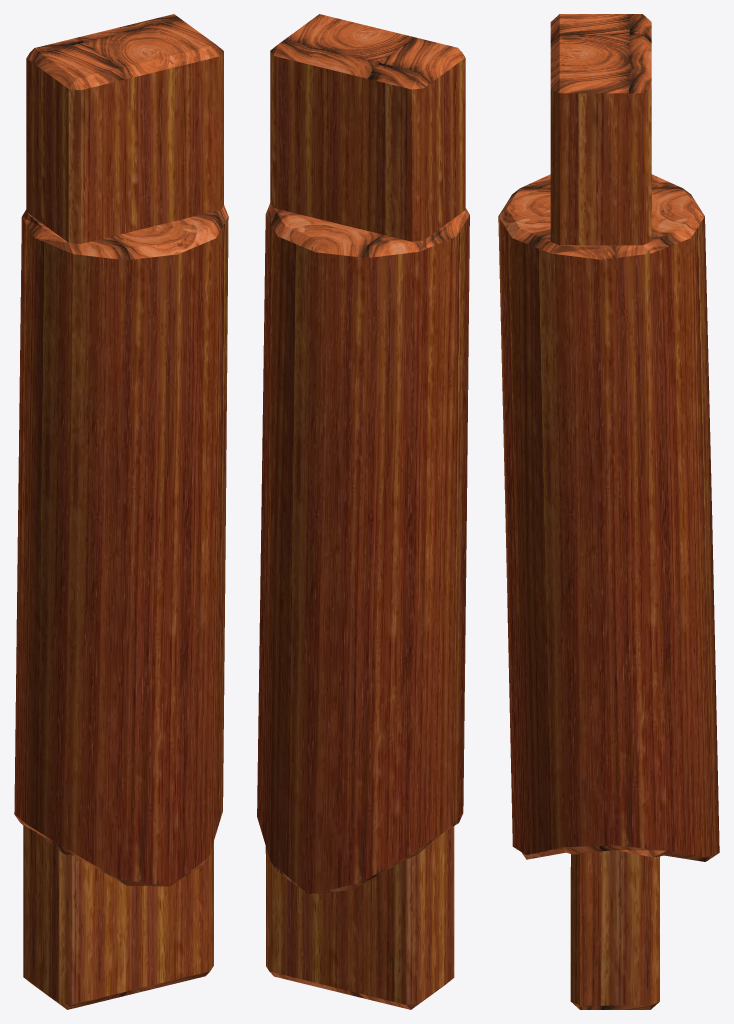
The model's file is changfangwu_J_dingzi_2.FBX.
3 renders of one model, left to right at view 1: azimuth 30°, elevation 25°; view 2: azimuth 150°, elevation 25°; view 3: azimuth 270°, elevation 25°, orthographic.
Parts seen in each view (by area): view 1: changfangwu_J_dingzi_2; view 2: changfangwu_J_dingzi_2; view 3: changfangwu_J_dingzi_2.
Boxes of the visible parts, left/top/right/bottom form: changfangwu_J_dingzi_2: left=14, top=14, right=228, bottom=1009; changfangwu_J_dingzi_2: left=257, top=14, right=469, bottom=1009; changfangwu_J_dingzi_2: left=498, top=14, right=719, bottom=1009.
Bounding box in the file's own units: 1.4 × 6.94 × 1.5.
2 materials, 2 textured.
